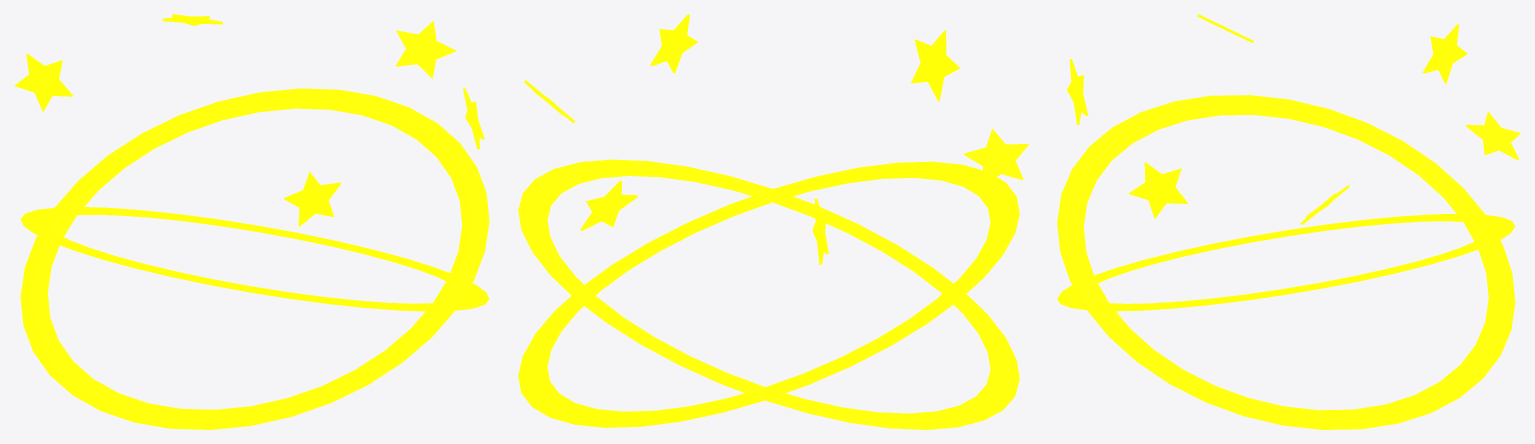
File: dizzy.fbx
3 renders of one model, left to right at view 1: azimuth 30°, elevation 25°; view 2: azimuth 150°, elevation 25°; view 3: azimuth 270°, elevation 25°, orthographic. The views are drawn at different scales.
Visible parts, largest first — view 1: Torus, Torus.001, Star.002, Star.001, Star.004, Star.005, Star.006; view 2: Torus, Torus.001, Star.006, Star.004, Star.005, Star.003, Star.001; view 3: Torus.001, Torus, Star.005, Star.001, Star.003, Star.004.
Part boxes in pixels (x1,y1,x2,y2): Torus: (20,88,489,429); Torus.001: (20,207,489,311); Star.002: (395,21,455,78); Star.001: (15,53,72,111); Star.004: (284,172,340,226); Star.005: (463,88,484,149); Star.006: (76,161,128,196); Torus: (518,159,1019,429); Torus.001: (518,161,1019,427); Star.006: (964,128,1028,185); Star.004: (911,30,960,100); Star.005: (650,14,697,73); Star.003: (580,180,637,230); Star.001: (812,198,828,264); Torus.001: (1057,95,1515,429); Torus: (1057,214,1515,311); Star.005: (1128,162,1187,218); Star.001: (1422,24,1467,83); Star.003: (1466,112,1520,160); Star.004: (1067,59,1088,124).
Bounding box in the file's own units: 390 × 230 × 381.
